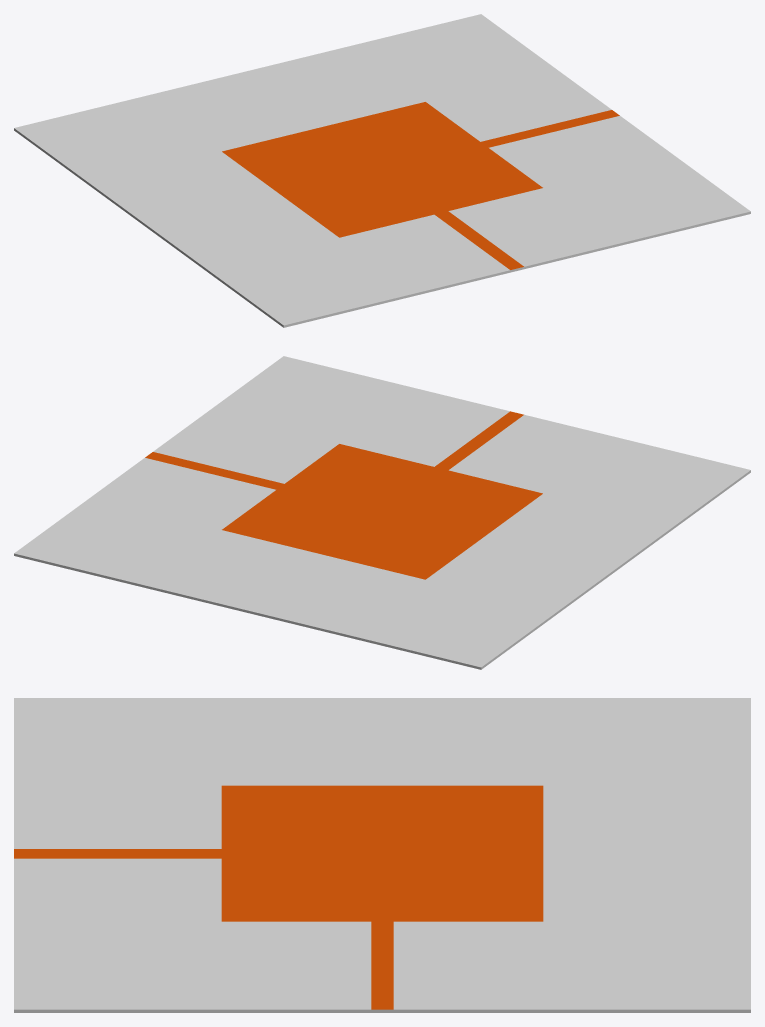
File: S_Floor3_LOD1.fbx
3 renders of one model, top to bottom at view 1: azimuth 30°, elevation 25°; view 2: azimuth 150°, elevation 25°; view 3: azimuth 270°, elevation 25°, orthographic. The views are drawn at different scales.
Visible parts, largest first — view 1: S_Floor3_LOD1; view 2: S_Floor3_LOD1; view 3: S_Floor3_LOD1.
Boxes of the visible parts, x1,y1,x2,y2 form: S_Floor3_LOD1: (14,14,750,327); S_Floor3_LOD1: (14,356,750,669); S_Floor3_LOD1: (14,698,750,1012).
Bounding box in the file's own units: 200 × 200 × 1.
